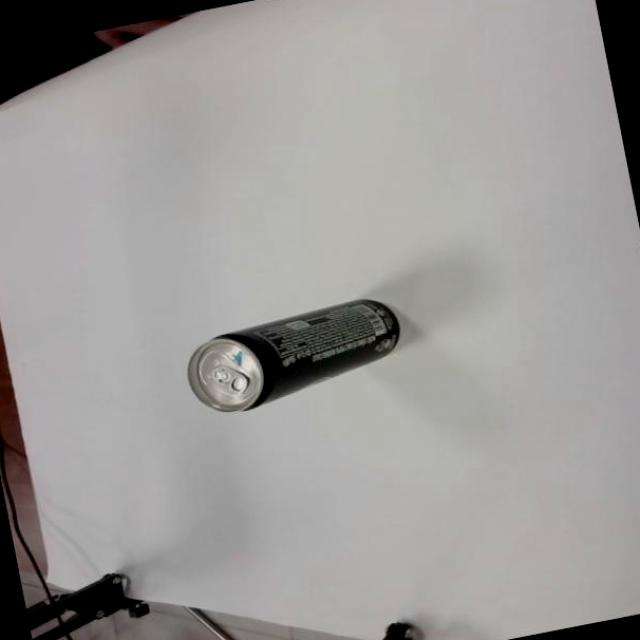debris: (177, 292, 410, 422)
